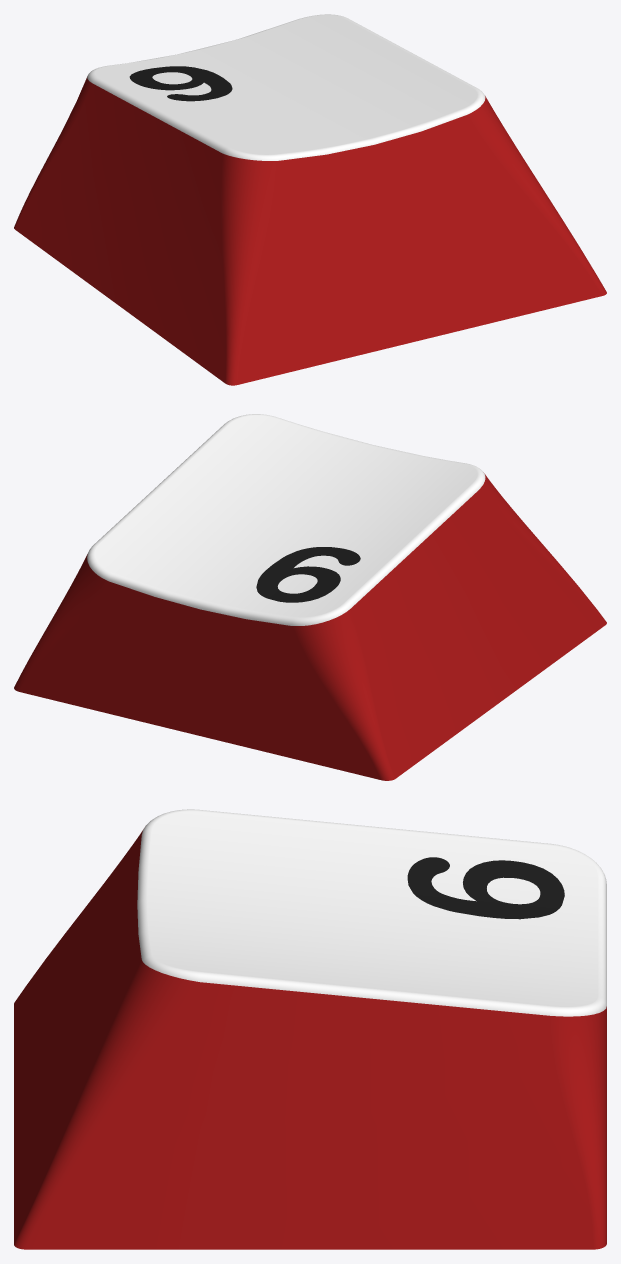
The model's file is NUM 9 Mono.fbx.
3 views of the same model, one above another, from view 1: azimuth 30°, elevation 25°; view 2: azimuth 150°, elevation 25°; view 3: azimuth 270°, elevation 25° (orthographic). The views are drawn at different scales.
Parts seen in each view (by area): view 1: Body1; view 2: Body1; view 3: Body1.
Boxes of the visible parts, x1,y1,x2,y2 form: Body1: (14,14,606,385); Body1: (14,414,606,780); Body1: (14,809,606,1249).
Size of the model in its own units: 18 by 7.85 by 18.
